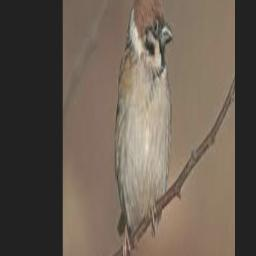Sparrow: (115, 0, 174, 256)
